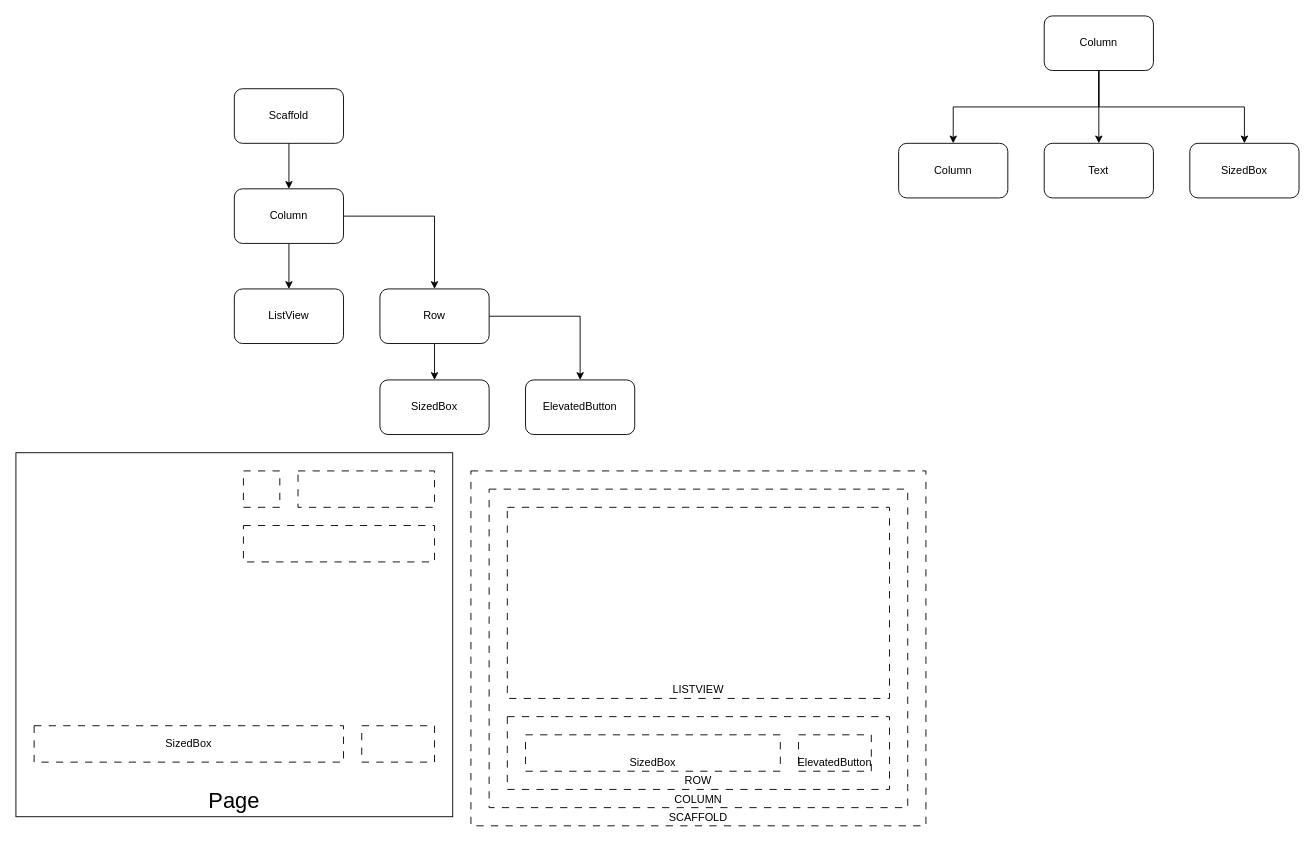
Some shapes in this 1315 by 842 pixel diagram are drawn without their labels. Here are the shapes that lost their labels. From the top down, the centre of each, then its label:
point 261,488: Connected
point 366,488: Server IP:PORT
point 339,543: Time Since Last Message
point 398,743: Send
